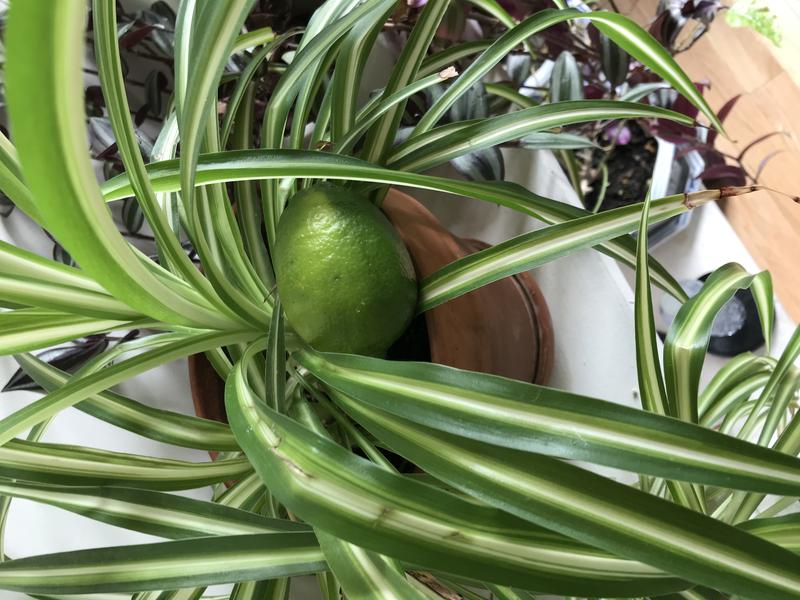lime: (263, 173, 432, 367)
